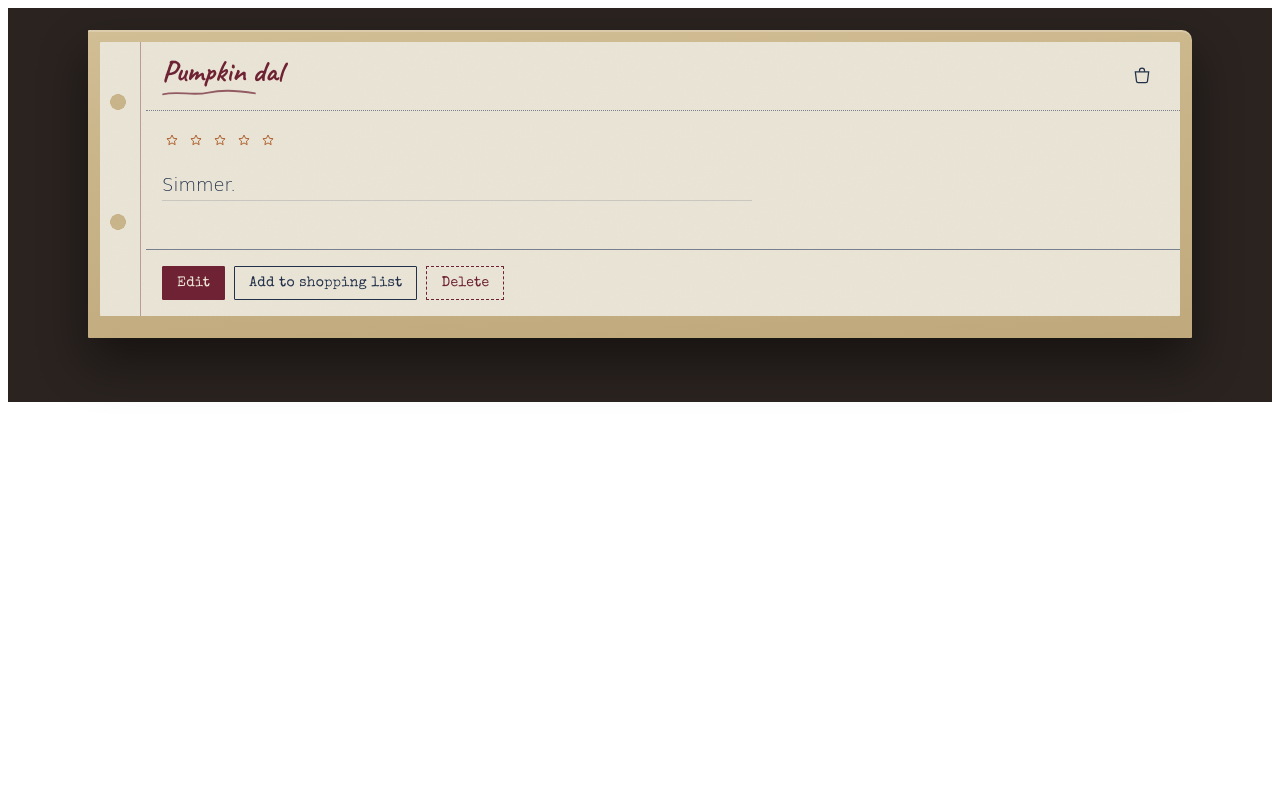
Test: edit and delete › requires a confirmation before deleting
Step 1. Click the button with test id "delete" → coordinates (466, 283), box [426,266,504,300]
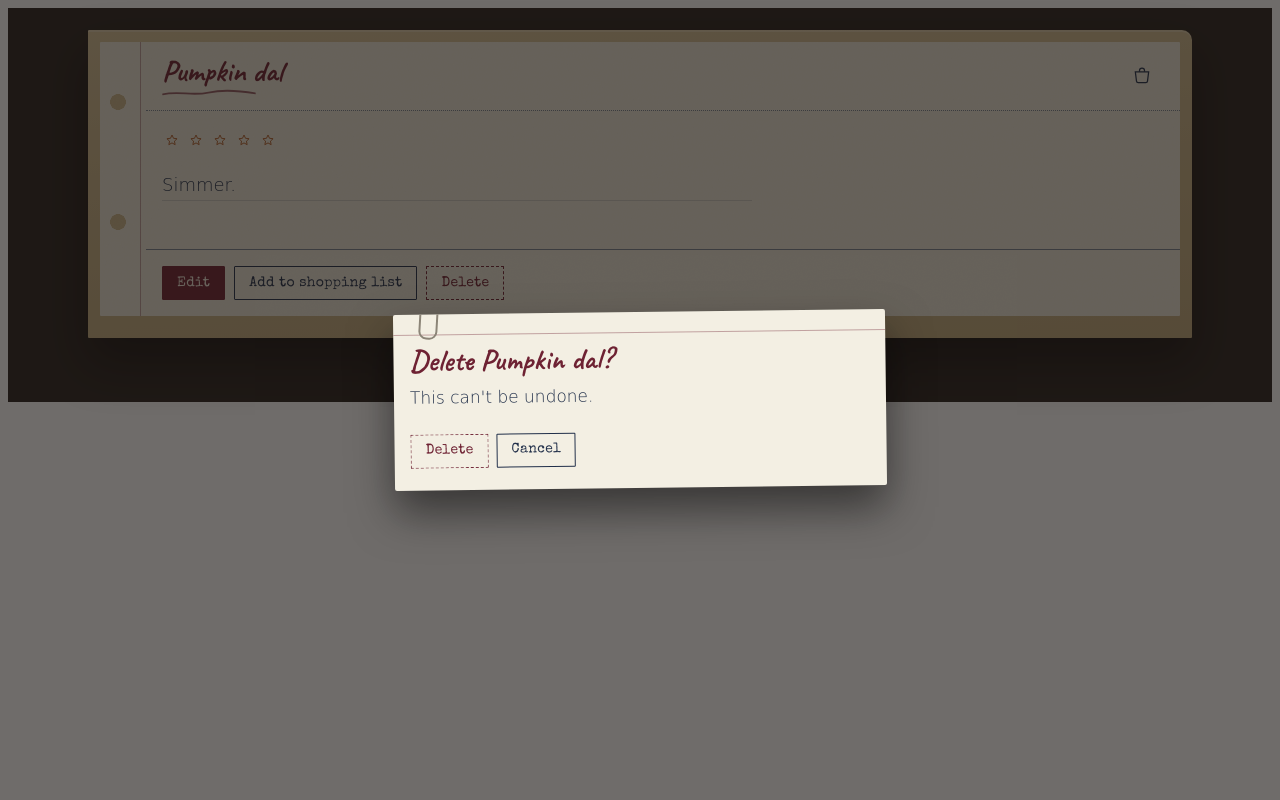
Expected: the element with test id "confirm-backdrop" shows "Delete Pumpkin dal?", [409,340,612,380]
Expected: the element with test id "confirm-backdrop" shows "This can't be undone.", [410,386,594,408]
